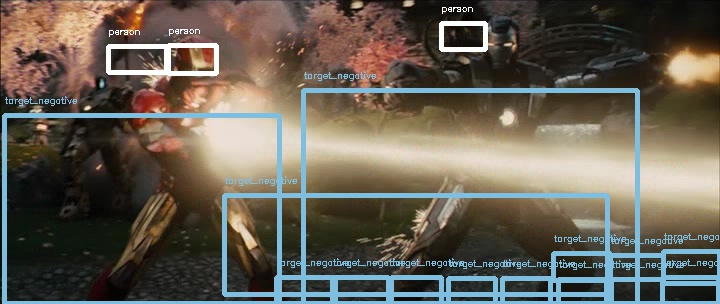person: (170, 35, 220, 85), (169, 35, 219, 85), (171, 35, 221, 85), (170, 34, 220, 84), (170, 36, 220, 86)
target_negative: (4, 272, 716, 291), (226, 167, 345, 269), (518, 41, 699, 74), (72, 182, 346, 195), (679, 192, 707, 226), (557, 278, 628, 283)
